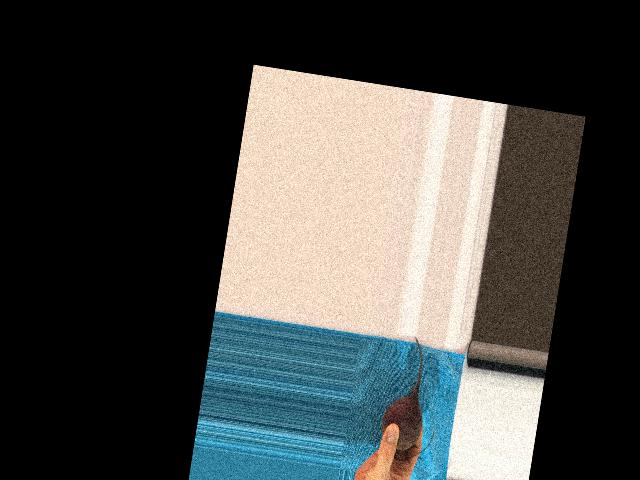beet: (376, 333, 447, 464)
